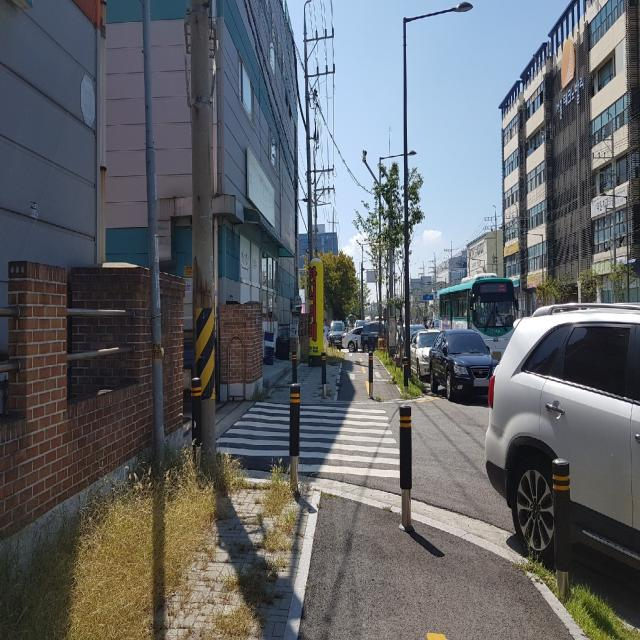횡단보도: (215, 399, 402, 480)
